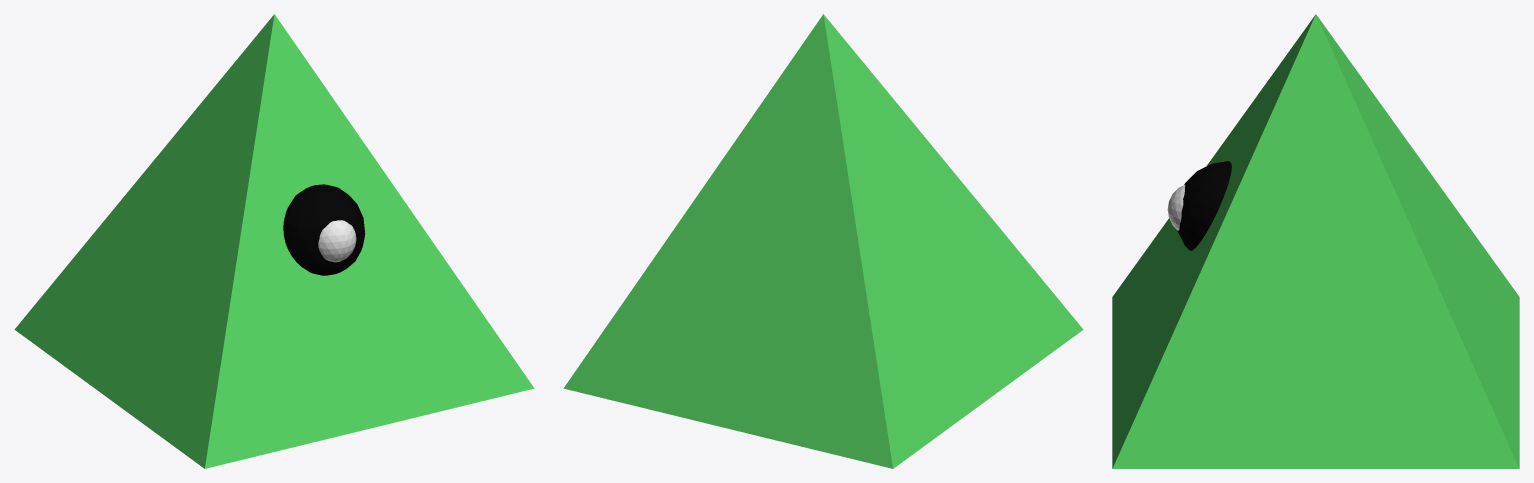
The model's file is complotiiste.fbx.
The picture shows the model from 3 angles, left to right: view 1: azimuth 30°, elevation 25°; view 2: azimuth 150°, elevation 25°; view 3: azimuth 270°, elevation 25°; orthographic projection. The views are drawn at different scales.
Visible parts, largest first — view 1: Cube, Icosphere, Icosphere.001; view 2: Cube; view 3: Cube, Icosphere, Icosphere.001.
Boxes of the visible parts, box(x1,y1,x2,y2) form: Cube: box(14, 14, 534, 468); Icosphere: box(283, 184, 365, 275); Icosphere.001: box(318, 220, 356, 262); Cube: box(563, 14, 1083, 468); Cube: box(1112, 14, 1519, 468); Icosphere: box(1177, 161, 1231, 250); Icosphere.001: box(1167, 185, 1185, 230).
Size of the model in its own units: 150 by 150 by 150.
